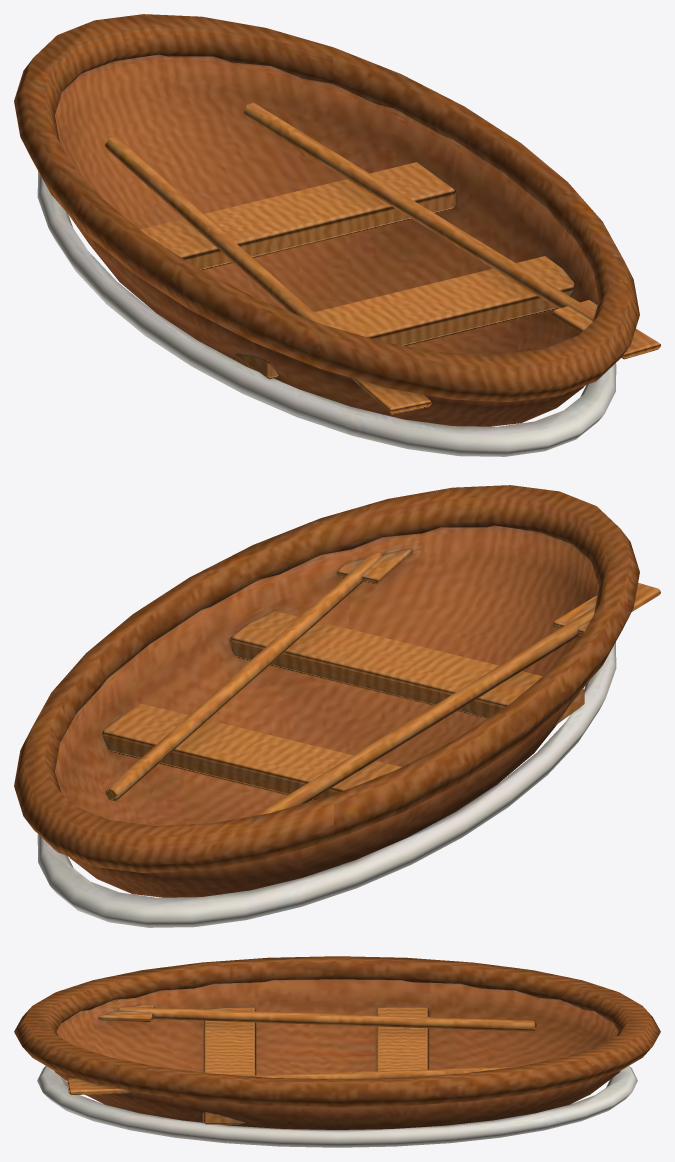
Rendered from rowboat.glb.
3 renders of one model, top to bottom at view 1: azimuth 30°, elevation 25°; view 2: azimuth 150°, elevation 25°; view 3: azimuth 270°, elevation 25°, orthographic. The views are drawn at different scales.
Parts seen in each view (by area): view 1: rowboat; view 2: rowboat; view 3: rowboat.
Part boxes in pixels (left/top/right/bottom): rowboat: left=14, top=14, right=660, bottom=456; rowboat: left=14, top=485, right=660, bottom=927; rowboat: left=14, top=956, right=660, bottom=1147.
Bounding box in the file's own units: 0.5778 × 0.2243 × 1.2.
1 material, 1 textured.
